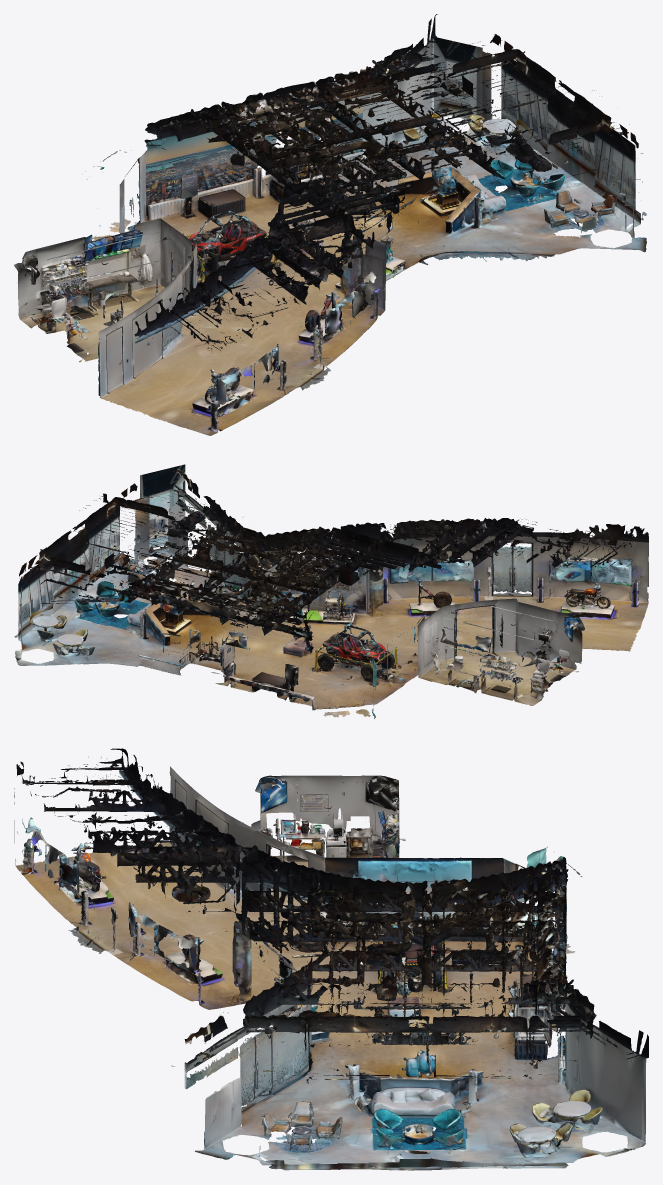
3 renders of one model, top to bottom at view 1: azimuth 30°, elevation 25°; view 2: azimuth 150°, elevation 25°; view 3: azimuth 270°, elevation 25°, orthographic. The views are drawn at different scales.
Visible parts, largest first — view 1: node_403, node_13, node_112, node_75, node_5, node_78, node_423, node_140, node_414, node_231, node_351, node_116 (+80 smaller); view 2: node_9, node_25, node_5, node_34, node_95, node_70, node_13, node_57, node_328, node_145, node_39, node_302 (+100 smaller); view 3: node_427, node_182, node_414, node_9, node_420, node_407, node_328, node_284, node_231, node_112, node_78, node_308 (+99 smaller).
Boxes of the visible parts, bbox=[...] form: node_403: bbox=[100, 98, 294, 227]; node_13: bbox=[33, 218, 191, 336]; node_112: bbox=[132, 275, 222, 376]; node_75: bbox=[98, 310, 159, 406]; node_5: bbox=[21, 247, 193, 362]; node_78: bbox=[134, 345, 297, 395]; node_423: bbox=[434, 37, 482, 118]; node_140: bbox=[177, 244, 289, 339]; node_414: bbox=[339, 50, 452, 158]; node_231: bbox=[467, 178, 582, 234]; node_351: bbox=[161, 118, 251, 234]; node_116: bbox=[199, 312, 305, 355]; node_9: bbox=[432, 598, 582, 683]; node_25: bbox=[561, 524, 648, 622]; node_5: bbox=[419, 599, 578, 705]; node_34: bbox=[525, 525, 602, 603]; node_95: bbox=[396, 519, 480, 608]; node_70: bbox=[455, 518, 550, 606]; node_13: bbox=[417, 604, 581, 698]; node_57: bbox=[505, 533, 583, 616]; node_328: bbox=[65, 604, 175, 645]; node_145: bbox=[316, 569, 410, 644]; node_39: bbox=[555, 573, 641, 641]; node_302: bbox=[313, 641, 397, 704]; node_427: bbox=[197, 1016, 261, 1159]; node_182: bbox=[254, 1004, 324, 1123]; node_414: bbox=[561, 994, 645, 1149]; node_9: bbox=[259, 775, 399, 860]; node_420: bbox=[561, 1029, 648, 1155]; node_407: bbox=[258, 914, 635, 1170]; node_328: bbox=[441, 1069, 507, 1150]; node_284: bbox=[380, 1049, 444, 1124]; node_231: bbox=[318, 1066, 382, 1150]; node_112: bbox=[196, 793, 259, 919]; node_78: bbox=[131, 867, 201, 945]; node_308: bbox=[439, 971, 509, 1016].
Size of the model in its own units: 25.74 by 4.61 by 20.82.
436 materials, 436 textured.
